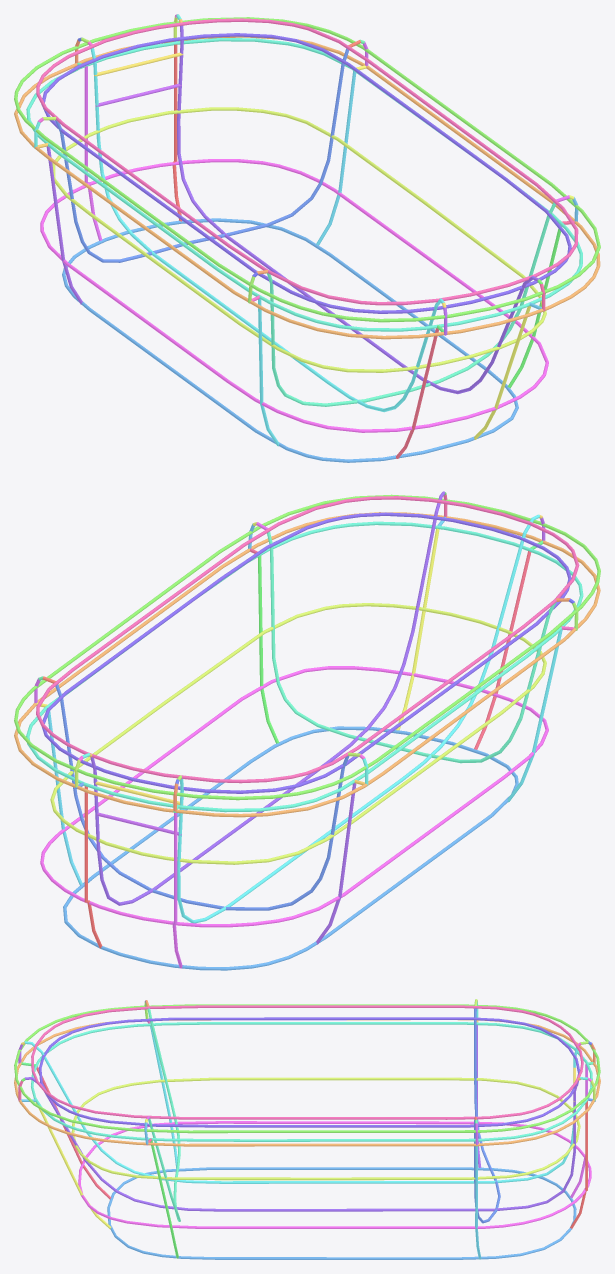
Rendered from flowrep_bathtub.gltf.
3 views of the same model, one above another, from view 1: azimuth 30°, elevation 25°; view 2: azimuth 150°, elevation 25°; view 3: azimuth 270°, elevation 25° (orthographic). The views are drawn at different scales.
Size of the model in its own units: 0.4453 by 0.2528 by 0.8657.
